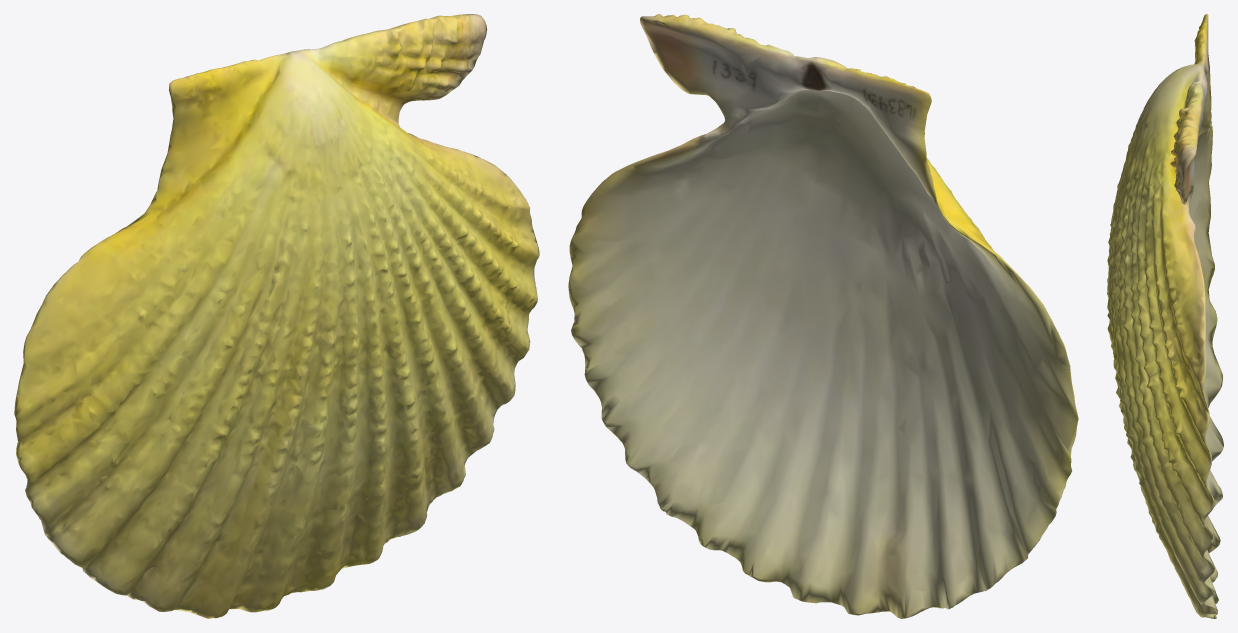
File: mimachlamys-asperrima-407a5ff5.glb
The picture shows the model from 3 angles, left to right: view 1: azimuth 30°, elevation 25°; view 2: azimuth 150°, elevation 25°; view 3: azimuth 270°, elevation 25°; orthographic projection. The views are drawn at different scales.
Parts seen in each view (by area): view 1: Mimachlamys_asperrima-150k; view 2: Mimachlamys_asperrima-150k; view 3: Mimachlamys_asperrima-150k.
Part boxes in pixels (x1=…): Mimachlamys_asperrima-150k: x1=14, y1=14, x2=539, y2=618; Mimachlamys_asperrima-150k: x1=568, y1=14, x2=1078, y2=618; Mimachlamys_asperrima-150k: x1=1107, y1=14, x2=1223, y2=618.
Size of the model in its own units: 0.0859 by 0.088 by 0.0172.
1 material, 1 textured.
